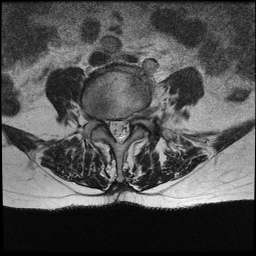CCS_normal: (115, 111, 123, 150)
LFS_normal: (130, 104, 138, 129)
LLS_normal: (123, 109, 131, 146)
RFS_severe_stenosis: (97, 107, 106, 133)
RLS_normal: (106, 110, 115, 143)
